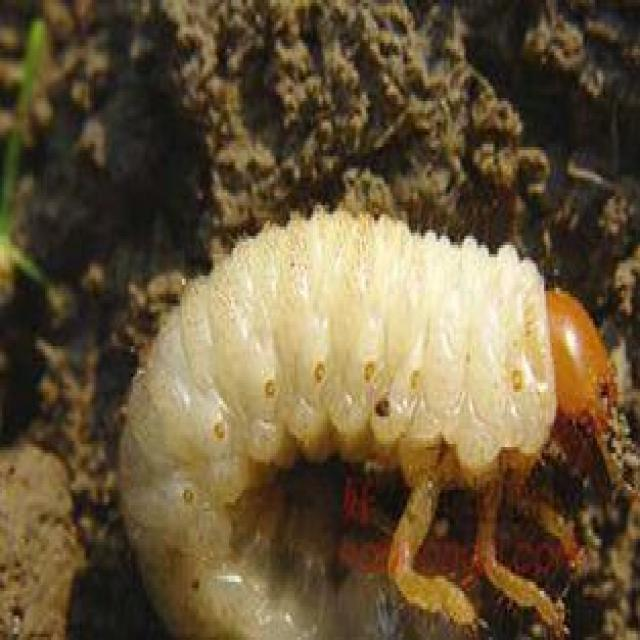Grub-Adult-: (102, 203, 622, 636)
